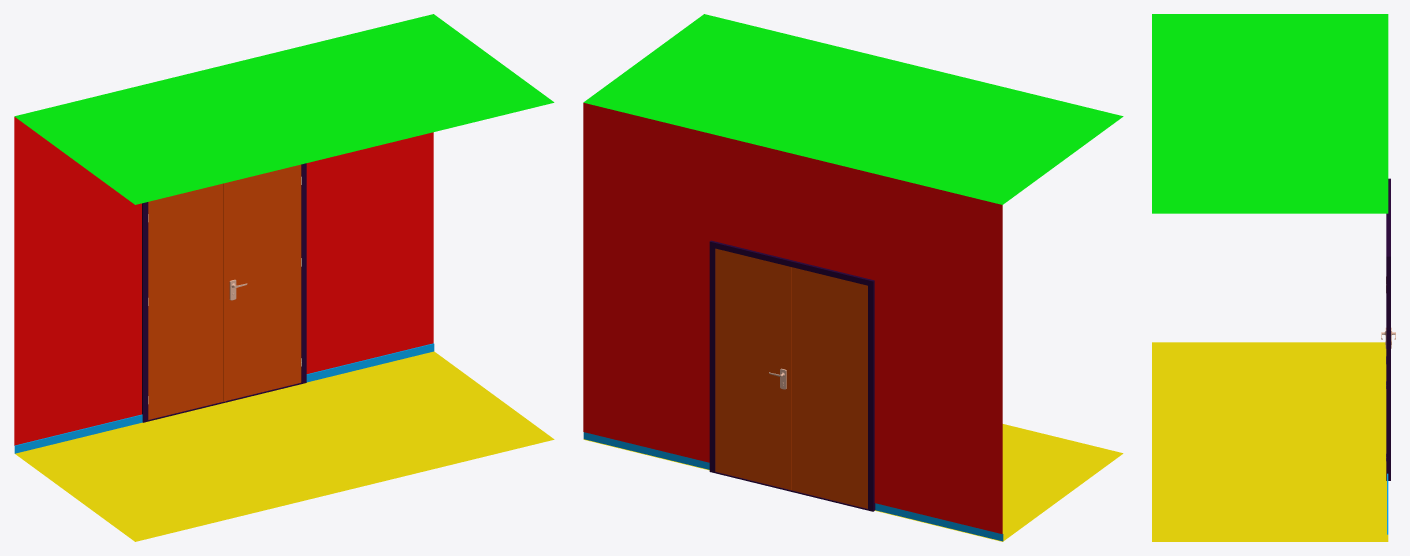
The model's file is SM_Door_Frame_D.FBX.
3 views of the same model, side by side, from view 1: azimuth 30°, elevation 25°; view 2: azimuth 150°, elevation 25°; view 3: azimuth 270°, elevation 25° (orthographic). The views are drawn at different scales.
Parts seen in each view (by area): view 1: SM_Door_Frame_D, SM_Door_R_D, SM_Door_L_D; view 2: SM_Door_Frame_D, SM_Door_R_D, SM_Door_L_D; view 3: SM_Door_Frame_D.
Part boxes in pixels (bbox=[...]): SM_Door_Frame_D: bbox=[14, 14, 554, 541]; SM_Door_R_D: bbox=[223, 164, 301, 401]; SM_Door_L_D: bbox=[148, 183, 222, 419]; SM_Door_Frame_D: bbox=[583, 14, 1123, 541]; SM_Door_R_D: bbox=[715, 248, 791, 490]; SM_Door_L_D: bbox=[792, 267, 867, 508]; SM_Door_Frame_D: bbox=[1152, 14, 1390, 541].
Size of the model in its own units: 4 by 3.07 by 2.07.
